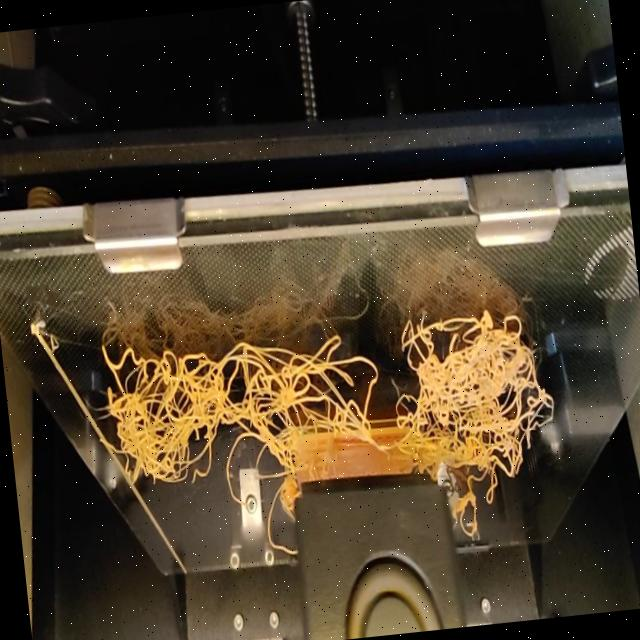spaghetti: (88, 284, 562, 504), (446, 462, 535, 547), (257, 478, 303, 564), (230, 492, 262, 509)
